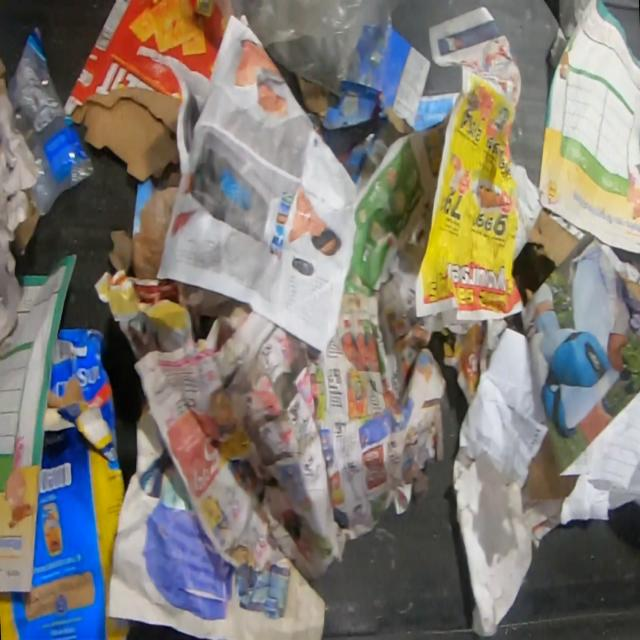cardboard: (0, 325, 134, 640), (62, 0, 227, 188), (293, 28, 432, 136), (526, 429, 579, 501), (527, 207, 581, 268), (10, 195, 40, 257), (0, 55, 7, 95)
soft_plastic: (6, 23, 94, 217), (230, 0, 400, 97), (106, 186, 178, 279)
